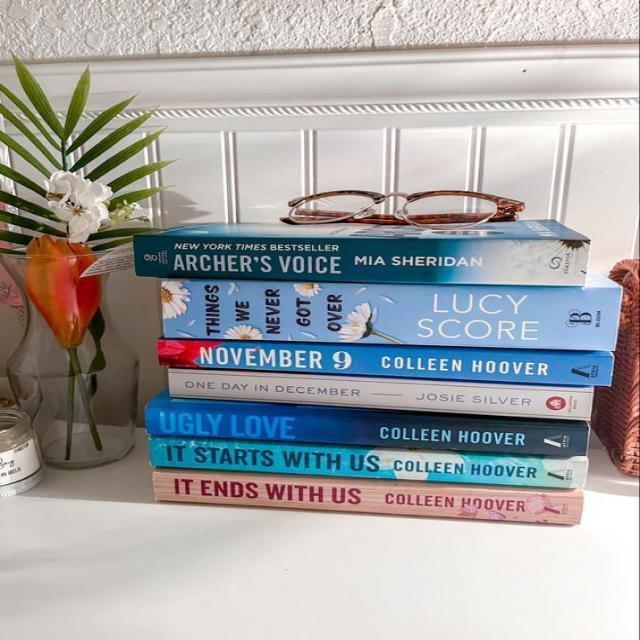book: (163, 282, 620, 350), (145, 390, 588, 457), (153, 469, 581, 526), (149, 436, 586, 488), (158, 338, 613, 386), (133, 236, 589, 283), (169, 370, 592, 420)
